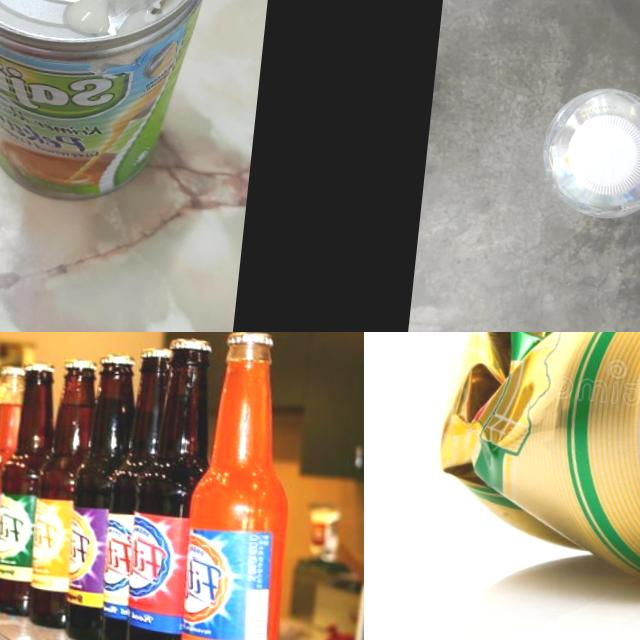garrafa de vidro: (171, 332, 309, 640), (118, 335, 222, 640), (89, 345, 173, 640), (61, 352, 139, 640), (23, 358, 101, 632), (0, 360, 62, 619), (0, 363, 27, 605)
garrafa plástica: (533, 79, 640, 226)
lata: (426, 332, 640, 606), (0, 0, 229, 207)
tampa plástica: (561, 113, 640, 198)
